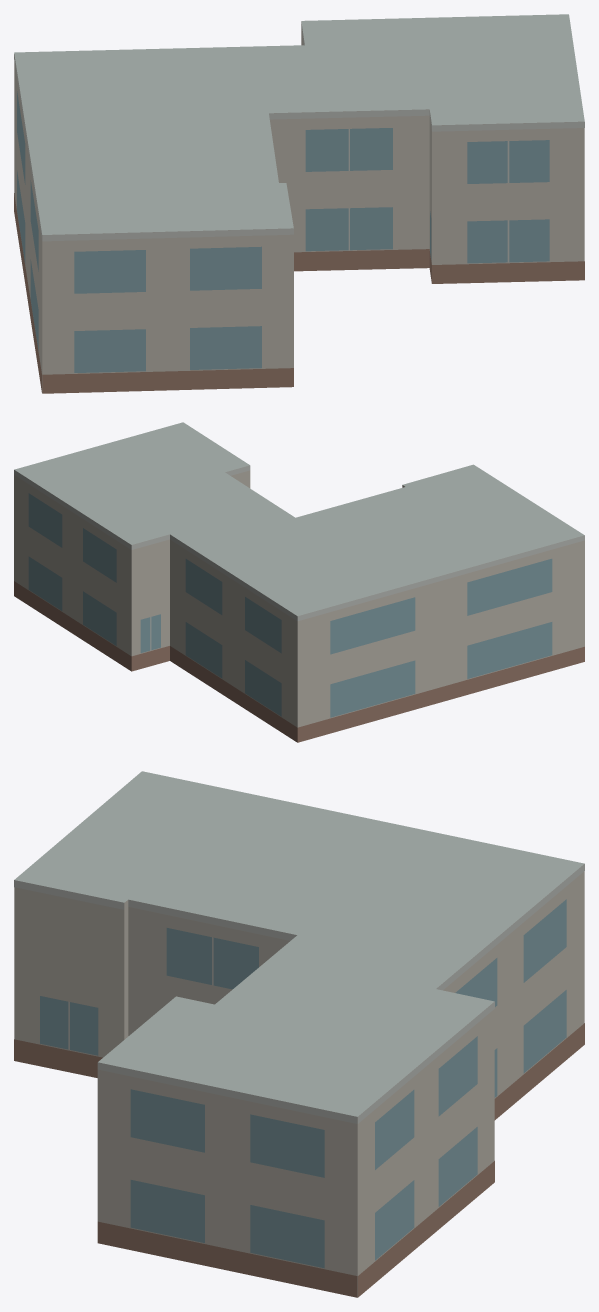
File: survey-upis-32798455.glb
3 renders of one model, top to bottom at view 1: azimuth 30°, elevation 25°; view 2: azimuth 150°, elevation 25°; view 3: azimuth 270°, elevation 25°, orthographic. The views are drawn at different scales.
Visible parts, largest first — view 1: survey-upis-32798455.tmp; view 2: survey-upis-32798455.tmp; view 3: survey-upis-32798455.tmp.
Boxes of the visible parts, bbox=[...] form: survey-upis-32798455.tmp: bbox=[14, 14, 584, 393]; survey-upis-32798455.tmp: bbox=[14, 422, 584, 742]; survey-upis-32798455.tmp: bbox=[14, 771, 584, 1297].
Bounding box in the file's own units: 25.02 × 6.1 × 17.45.
